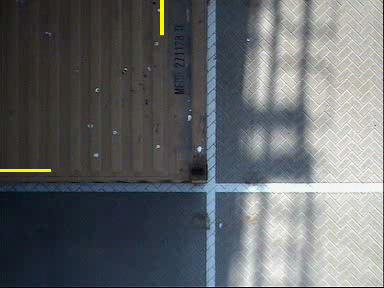groundmarker_2: (153, 180, 266, 258)
